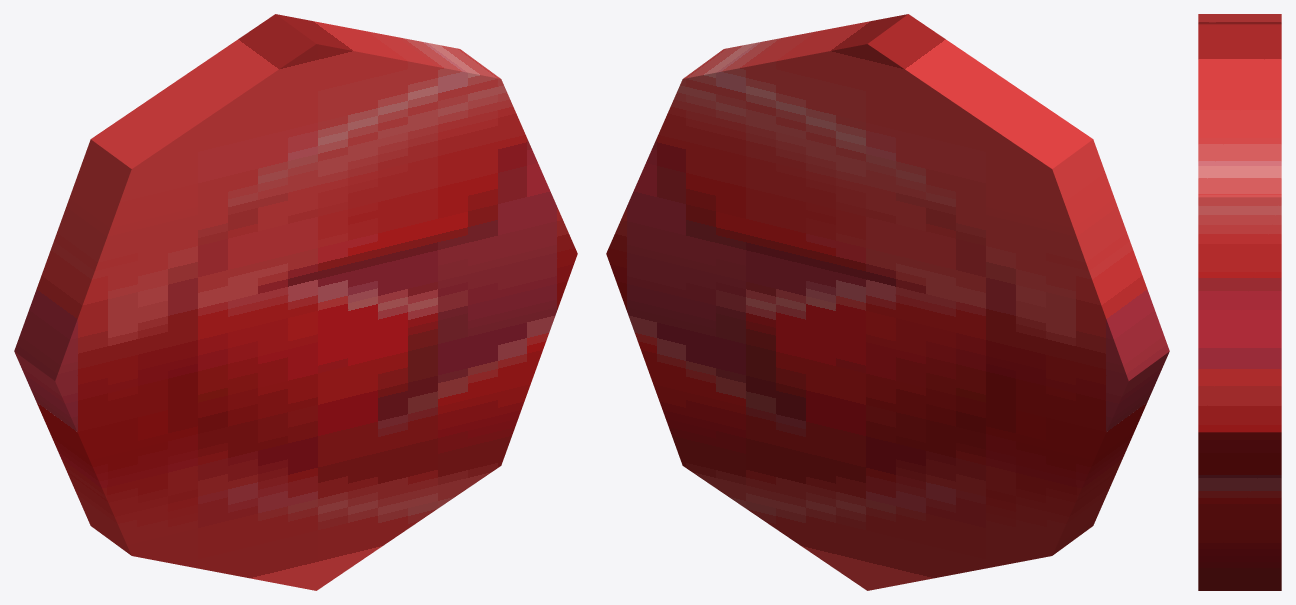
File: arc0_7.glb
The picture shows the model from 3 angles, left to right: view 1: azimuth 30°, elevation 25°; view 2: azimuth 150°, elevation 25°; view 3: azimuth 270°, elevation 25°; orthographic projection.
Parts seen in each view (by area): view 1: arc0_7; view 2: arc0_7; view 3: arc0_7.
Part boxes in pixels (bbox=[...]): arc0_7: bbox=[14, 14, 577, 590]; arc0_7: bbox=[606, 14, 1169, 590]; arc0_7: bbox=[1198, 14, 1281, 590].
Size of the model in its own units: 5.94 by 5.94 by 0.8081.
1 material, 1 textured.
